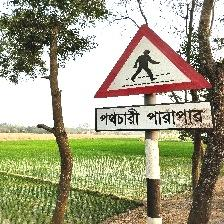Pedestrian-crossing: (94, 23, 215, 133)
